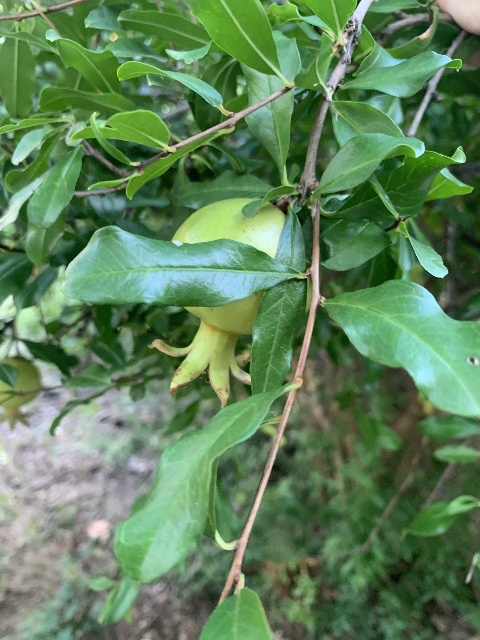mid-growth: (148, 196, 286, 406), (0, 356, 41, 431)
